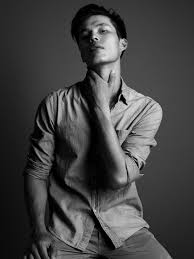asian_male: (69, 16, 123, 77)
